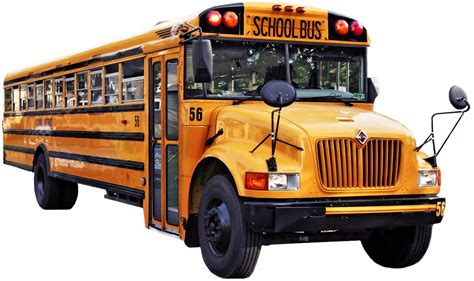bus: (4, 16, 442, 266)
